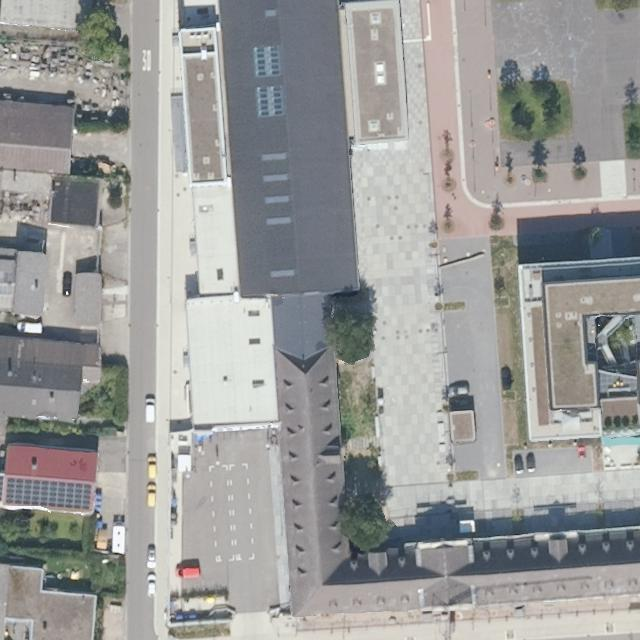PV: (2, 479, 94, 514)
